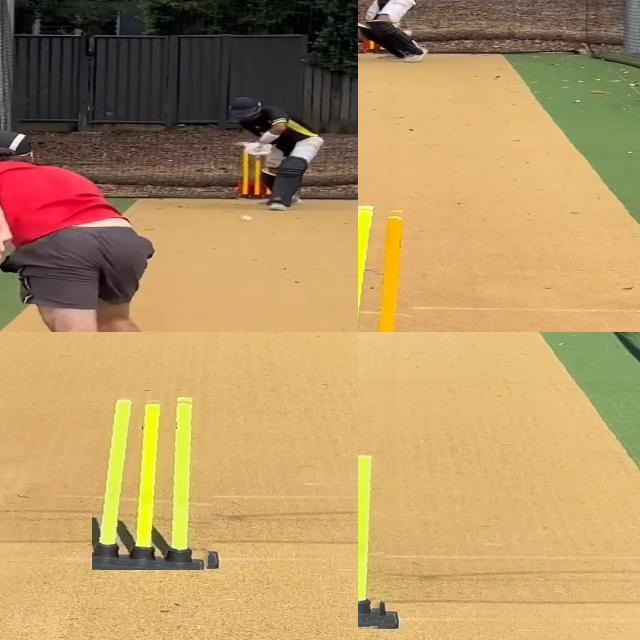Cricket ball: (240, 213, 256, 222)
Stumps: (92, 395, 222, 570), (358, 205, 421, 332), (358, 455, 394, 632)
